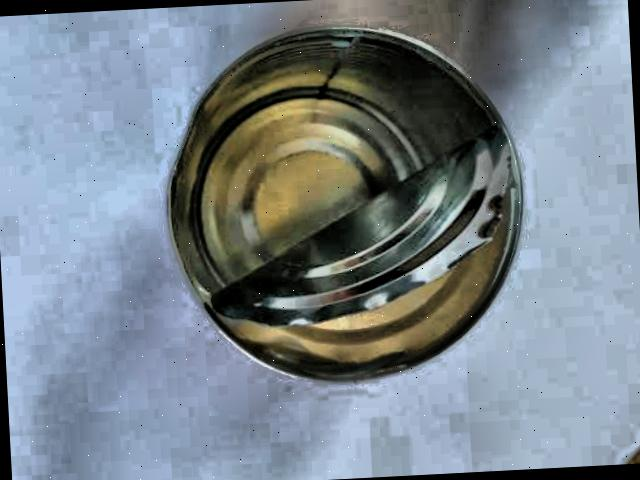Almennt: (146, 5, 540, 394)
